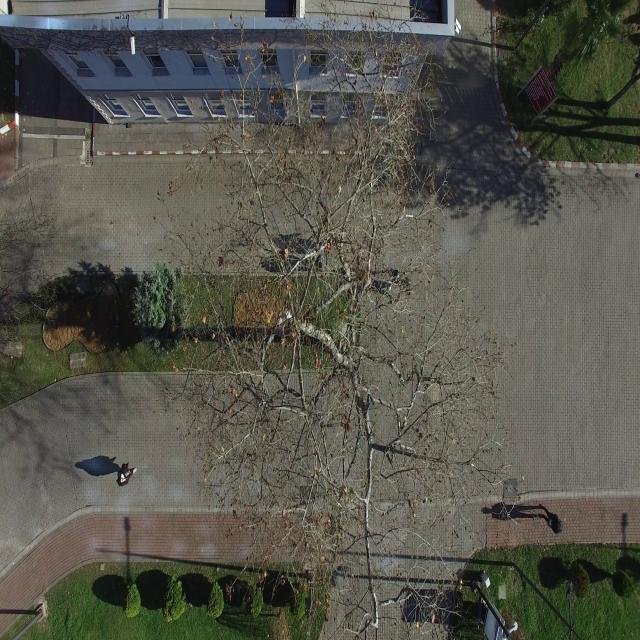p3rson: (541, 507, 564, 535), (116, 462, 137, 489), (315, 254, 324, 273)
